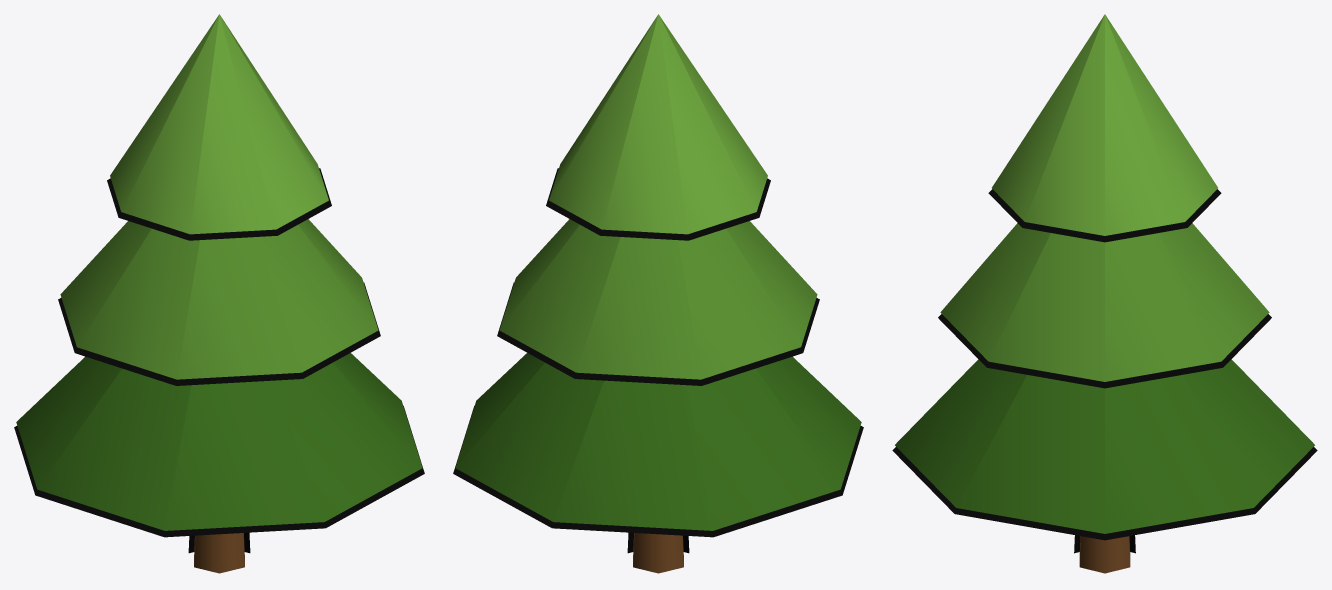
The model's file is BR_Baum_C.glb.
3 renders of one model, left to right at view 1: azimuth 30°, elevation 25°; view 2: azimuth 150°, elevation 25°; view 3: azimuth 270°, elevation 25°, orthographic.
Visible parts, largest first — view 1: BR_Baum_C_Mesh, BR_Baum_C_Outline; view 2: BR_Baum_C_Mesh, BR_Baum_C_Outline; view 3: BR_Baum_C_Mesh, BR_Baum_C_Outline.
Part boxes in pixels (<box>): BR_Baum_C_Mesh: <box>16,14,422,573</box>; BR_Baum_C_Outline: <box>14,168,424,553</box>; BR_Baum_C_Mesh: <box>455,14,861,573</box>; BR_Baum_C_Outline: <box>453,168,863,553</box>; BR_Baum_C_Mesh: <box>895,14,1314,573</box>; BR_Baum_C_Outline: <box>892,189,1317,553</box>.
Size of the model in its own units: 2.32 by 3.3 by 2.32.
